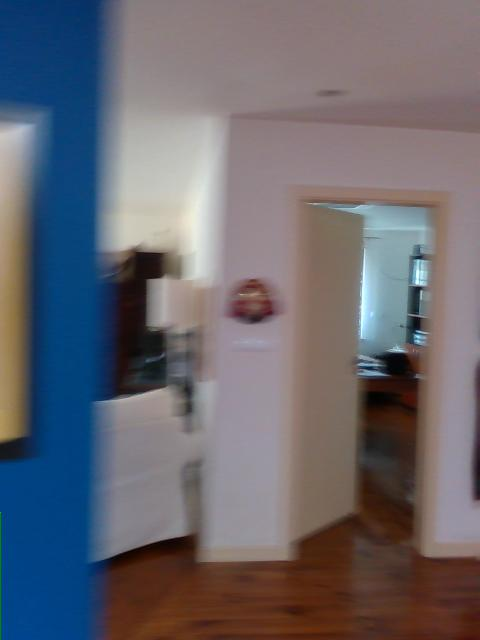semi_door: (280, 179, 445, 560)
